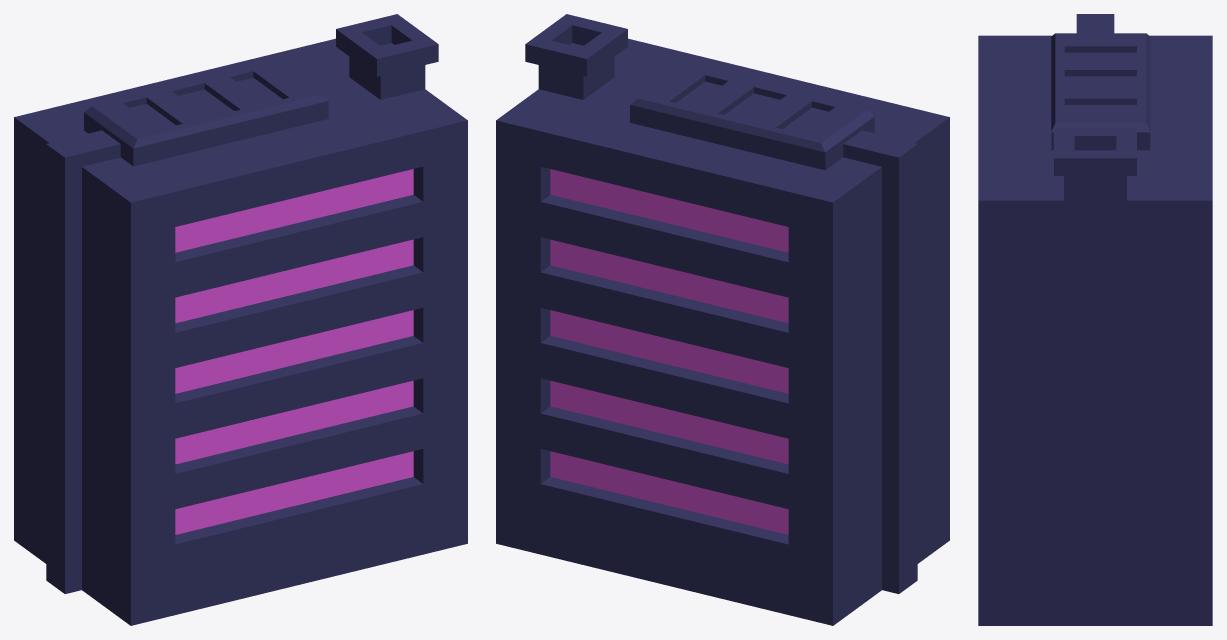
Rendered from Building_8.fbx.
3 renders of one model, left to right at view 1: azimuth 30°, elevation 25°; view 2: azimuth 150°, elevation 25°; view 3: azimuth 270°, elevation 25°, orthographic.
Visible parts, largest first — view 1: pCube42; view 2: pCube42; view 3: pCube42.
Boxes of the visible parts, bbox=[...] form: pCube42: bbox=[14, 14, 467, 625]; pCube42: bbox=[496, 14, 949, 625]; pCube42: bbox=[978, 14, 1212, 625].
Size of the model in its own units: 5.38 by 6.66 by 3.
